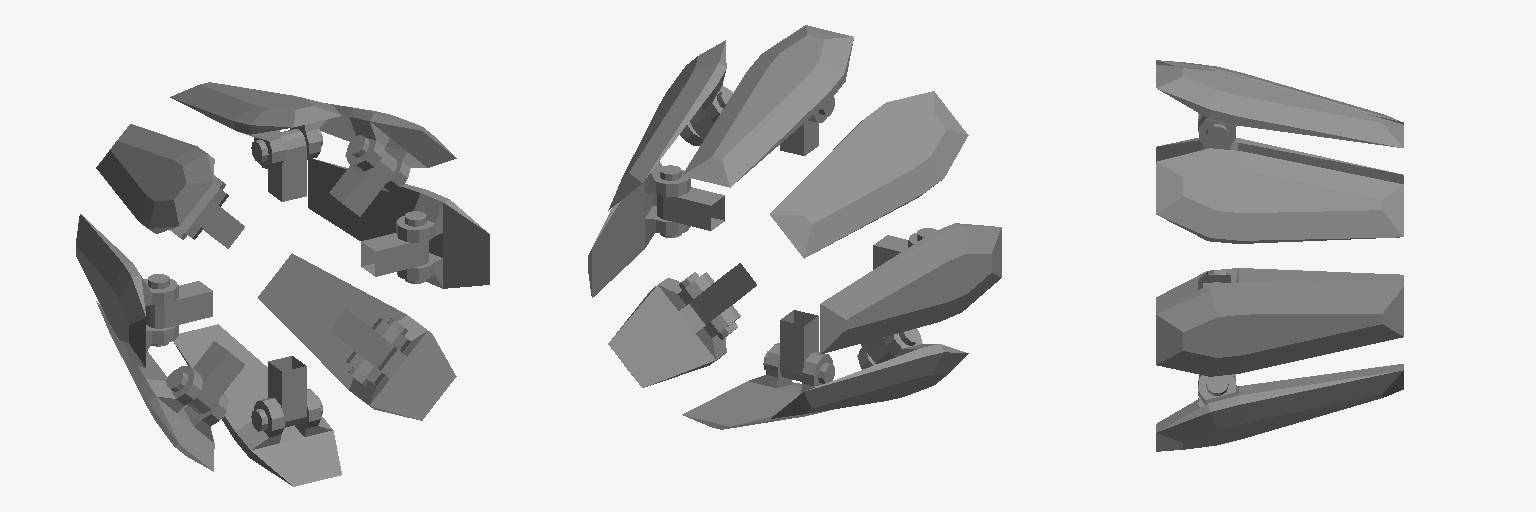
The model's file is Turbina3.obj.
3 views of the same model, side by side, from view 1: azimuth 30°, elevation 25°; view 2: azimuth 150°, elevation 25°; view 3: azimuth 270°, elevation 25° (orthographic).
Visible parts, largest first — view 1: PodRacer; view 2: PodRacer; view 3: PodRacer.
Boxes of the visible parts, box(x1,y1,x2,y2) form: PodRacer: box(76, 82, 489, 486); PodRacer: box(588, 25, 1001, 429); PodRacer: box(1156, 60, 1403, 451).
Bounding box in the file's own units: 39.73 × 39.73 × 24.32.